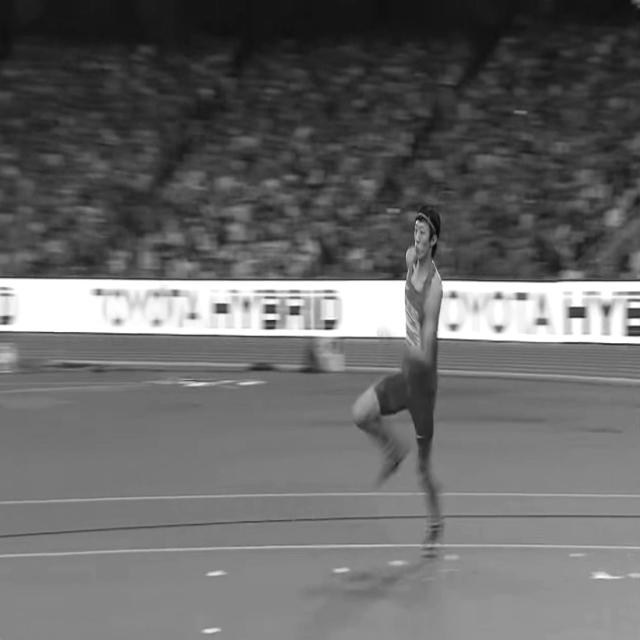run: (350, 206, 444, 554)
